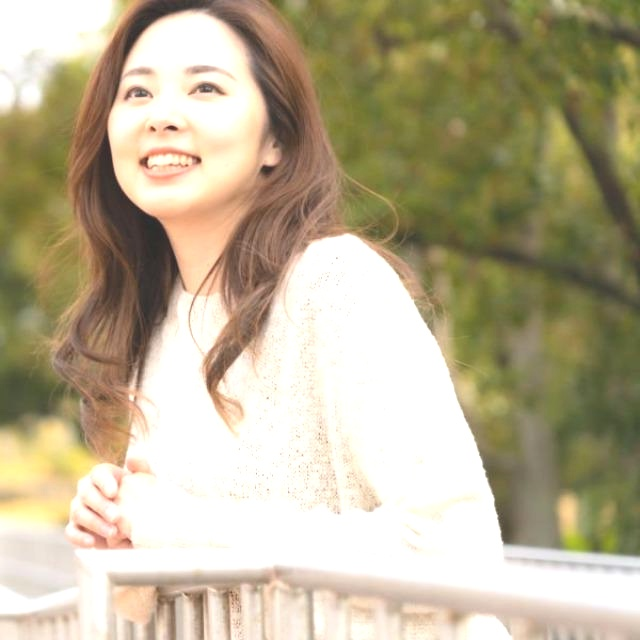Sin_Casco_Mascarrilla: (89, 0, 304, 218)
Sin_Chaleco: (104, 227, 437, 533)
